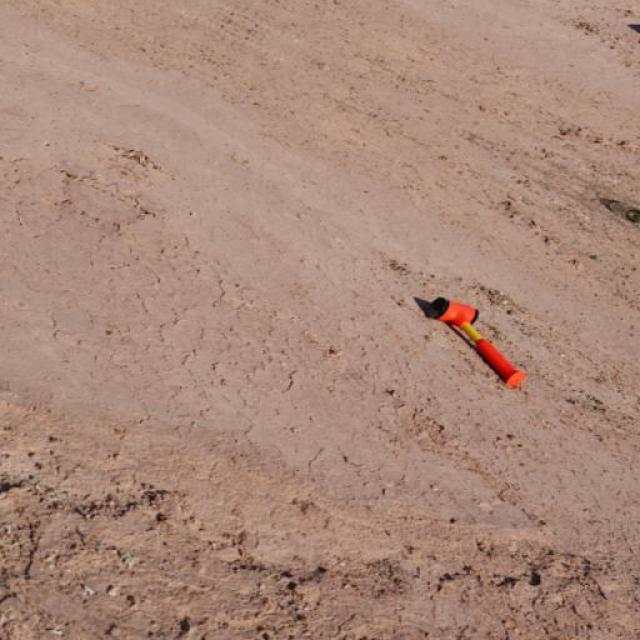mallet: (426, 296, 526, 389)
